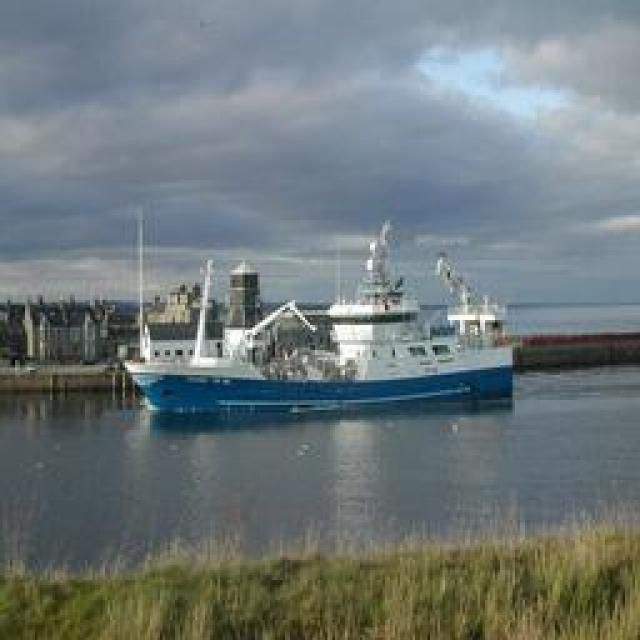CIV_Ship: (131, 242, 519, 412)
